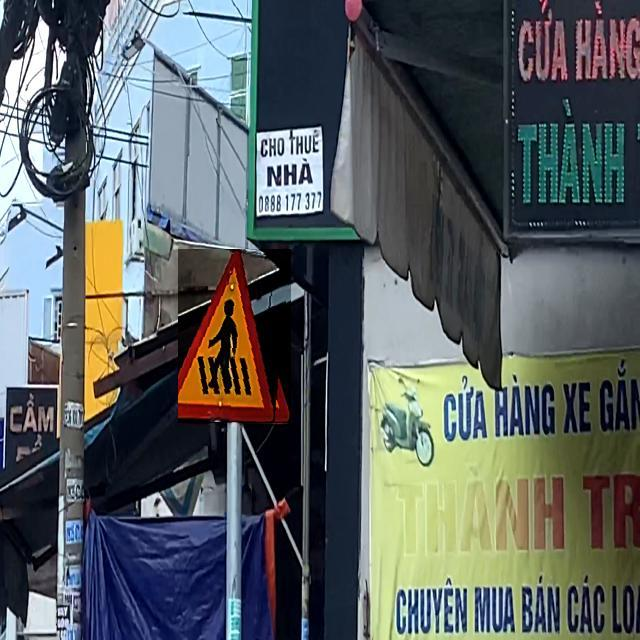W-224: (178, 250, 291, 424)
